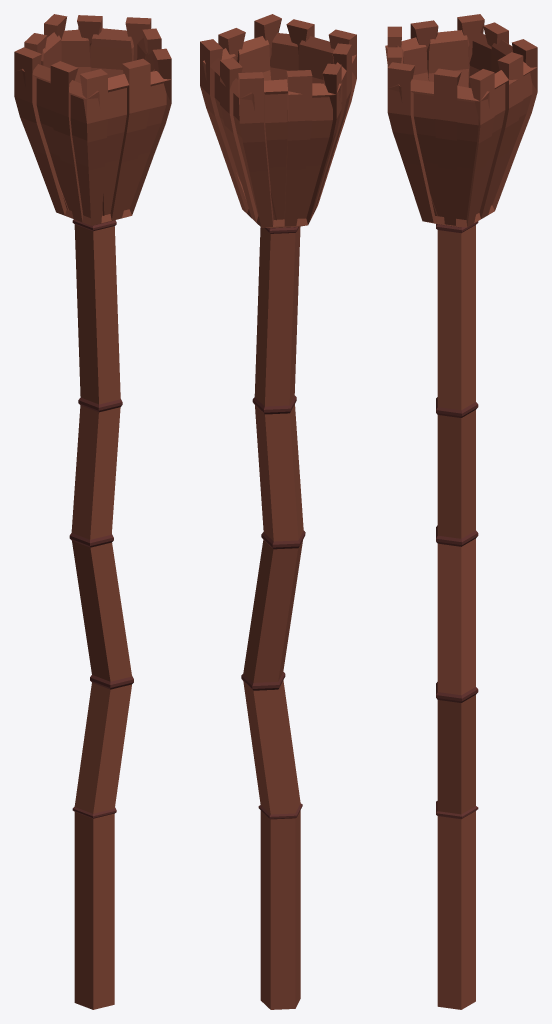
File: Torch_mini.fbx
3 views of the same model, side by side, from view 1: azimuth 30°, elevation 25°; view 2: azimuth 150°, elevation 25°; view 3: azimuth 270°, elevation 25° (orthographic).
Visible parts, largest first — view 1: Torch; view 2: Torch; view 3: Torch.
Boxes of the visible parts, x1,y1,x2,y2 form: Torch: (14,14,171,1009); Torch: (200,14,356,1009); Torch: (385,14,537,1009).
Bounding box in the file's own units: 1.1 × 7.35 × 1.06.
